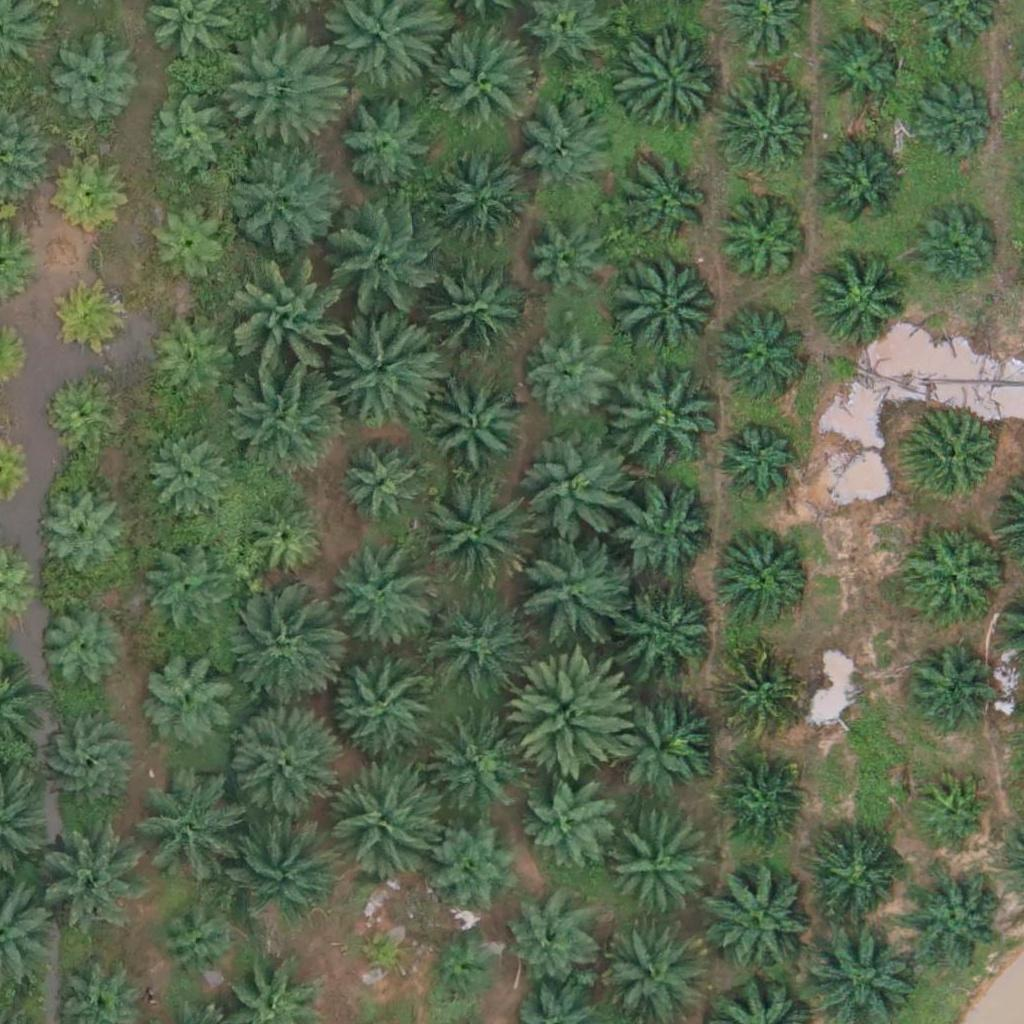Kelapa_Sawit: (512, 652, 637, 778), (514, 530, 627, 644), (415, 259, 528, 373), (704, 862, 817, 975), (416, 478, 529, 591), (420, 590, 533, 703), (327, 645, 440, 758), (224, 706, 337, 819), (608, 361, 721, 474), (332, 205, 445, 318), (231, 363, 344, 476), (521, 436, 634, 549), (224, 808, 336, 922), (614, 246, 726, 360), (237, 267, 349, 381), (320, 546, 432, 659), (325, 763, 437, 876), (222, 597, 334, 710), (35, 814, 147, 927), (428, 28, 540, 141), (327, 310, 439, 423), (224, 141, 336, 254), (224, 26, 336, 139), (714, 523, 814, 624), (621, 582, 721, 683), (607, 819, 707, 920), (424, 711, 524, 812), (426, 812, 526, 913), (132, 781, 232, 882), (808, 137, 908, 238), (809, 253, 909, 354), (718, 81, 818, 182), (618, 37, 718, 138), (427, 375, 527, 476), (332, 87, 432, 188), (905, 524, 1005, 624), (908, 869, 1008, 969), (616, 489, 716, 589), (606, 689, 706, 789), (139, 647, 239, 747), (37, 715, 137, 815), (903, 409, 1003, 509), (711, 309, 811, 409), (620, 153, 720, 253), (521, 97, 621, 197), (428, 153, 528, 253), (902, 641, 990, 729), (813, 836, 901, 924), (713, 647, 801, 735), (506, 899, 594, 987), (239, 496, 327, 584), (153, 898, 241, 986), (34, 489, 122, 577), (904, 70, 992, 158), (720, 203, 808, 291), (712, 416, 800, 504), (339, 441, 427, 529), (142, 197, 230, 285), (147, 320, 235, 408), (139, 546, 226, 635), (716, 755, 803, 843), (524, 779, 611, 867), (36, 605, 123, 693), (911, 205, 998, 293), (816, 23, 903, 111), (525, 230, 612, 318), (530, 335, 617, 423), (145, 95, 232, 183), (146, 429, 233, 517), (47, 36, 134, 124), (41, 375, 116, 451), (425, 932, 500, 1008), (914, 772, 989, 848), (56, 279, 131, 355), (56, 157, 131, 232), (351, 920, 413, 983)
